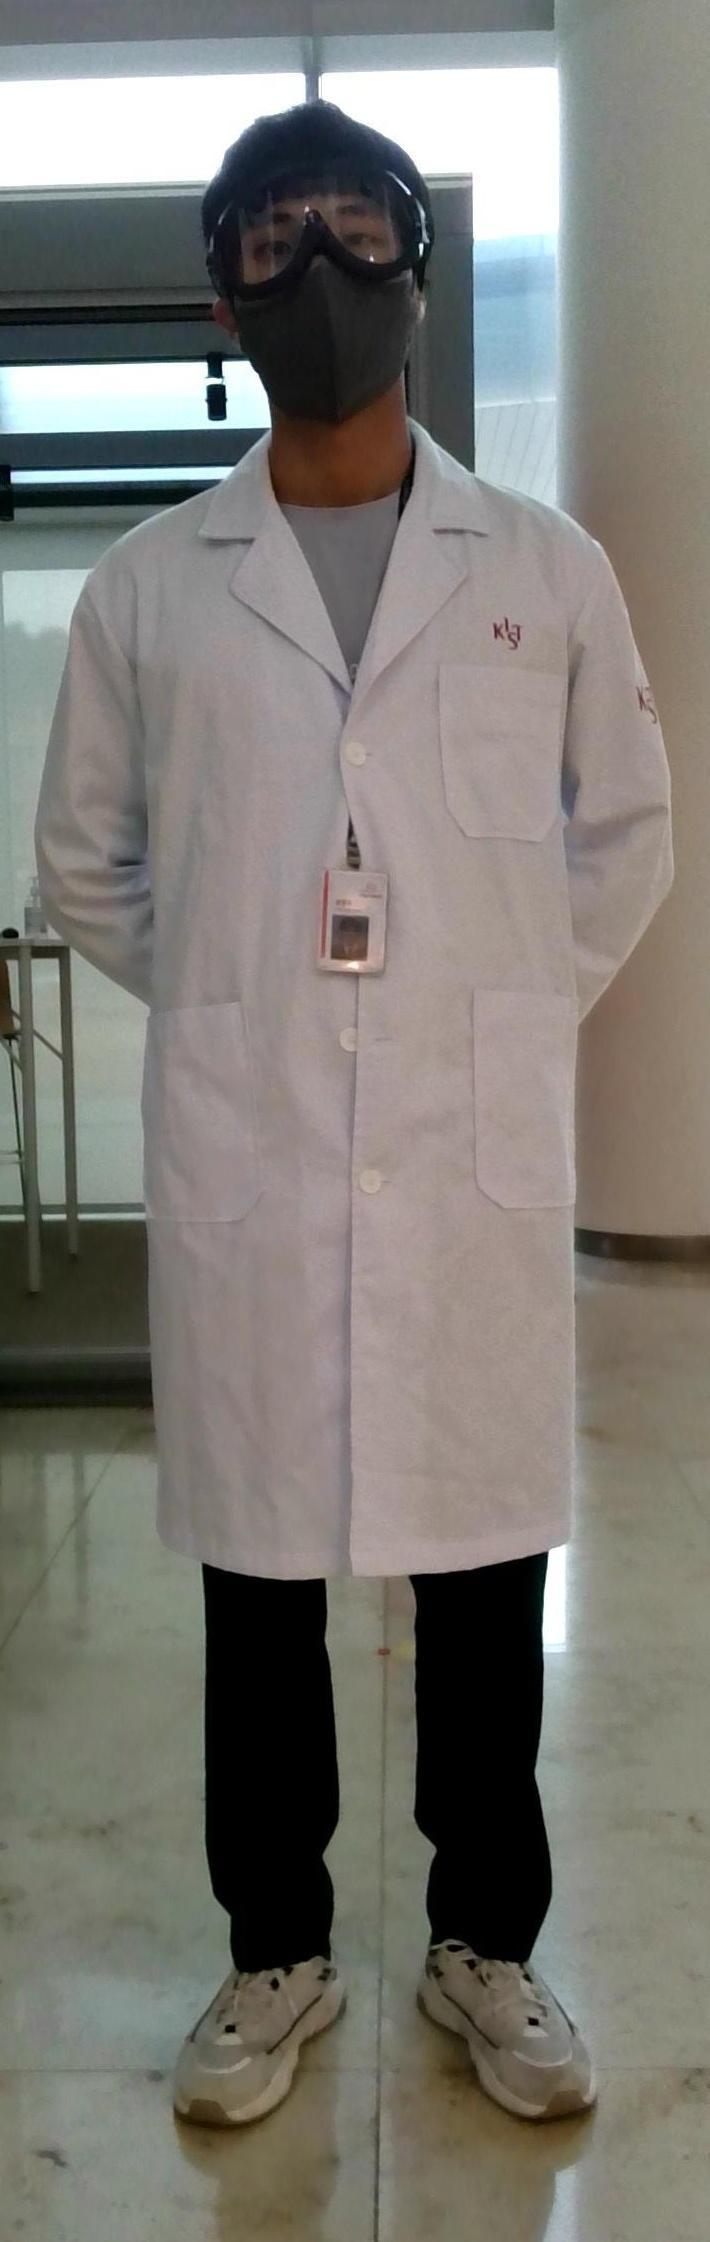lab_coat: (26, 522, 690, 1539)
